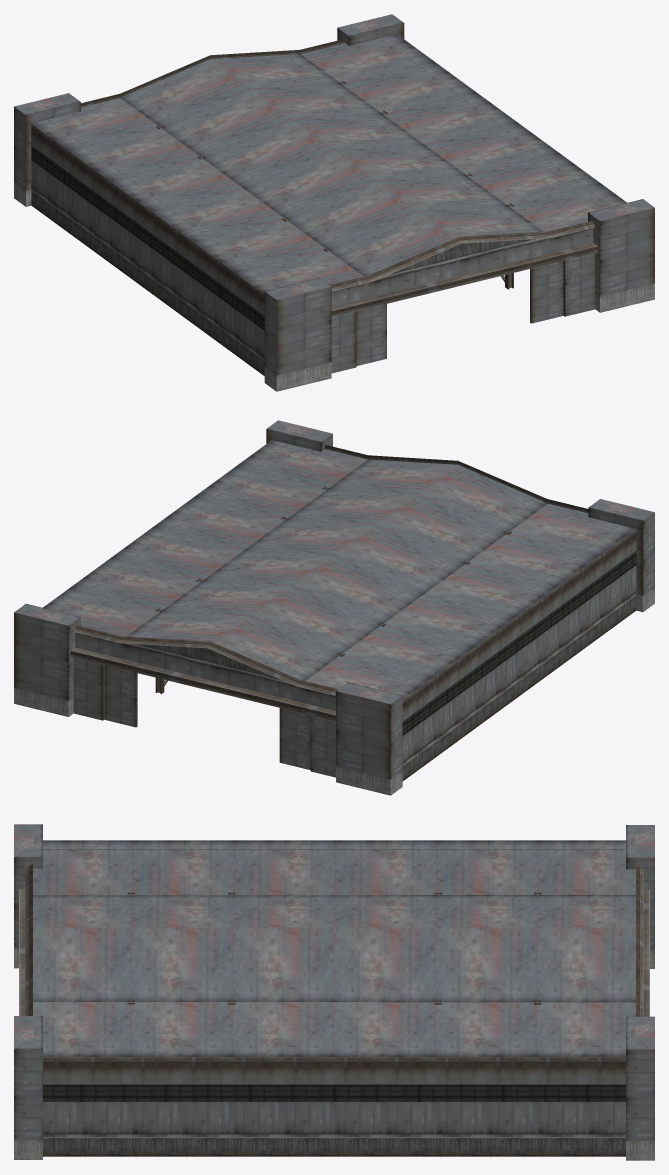
Rendered from ind-hangar.walls-v1.lod1.glb.
3 renders of one model, top to bottom at view 1: azimuth 30°, elevation 25°; view 2: azimuth 150°, elevation 25°; view 3: azimuth 270°, elevation 25°, orthographic. The views are drawn at different scales.
Parts seen in each view (by area): view 1: Industrial_Hangar_2_Industrial_Walls_FLR_1_0, Industrial_Hangar_2_Industrial_Windows_FLR_1_0; view 2: Industrial_Hangar_2_Industrial_Walls_FLR_1_0, Industrial_Hangar_2_Industrial_Windows_FLR_1_0; view 3: Industrial_Hangar_2_Industrial_Walls_FLR_1_0, Industrial_Hangar_2_Industrial_Windows_FLR_1_0.
Boxes of the visible parts, box(x1,y1,x2,y2) form: Industrial_Hangar_2_Industrial_Walls_FLR_1_0: box(14, 14, 654, 391); Industrial_Hangar_2_Industrial_Windows_FLR_1_0: box(31, 145, 264, 330); Industrial_Hangar_2_Industrial_Walls_FLR_1_0: box(14, 420, 654, 795); Industrial_Hangar_2_Industrial_Windows_FLR_1_0: box(402, 550, 636, 735); Industrial_Hangar_2_Industrial_Walls_FLR_1_0: box(14, 824, 654, 1160); Industrial_Hangar_2_Industrial_Windows_FLR_1_0: box(43, 1084, 625, 1101).
Bounding box in the file's own units: 49.78 × 12.88 × 59.96.
2 materials, 2 textured.
